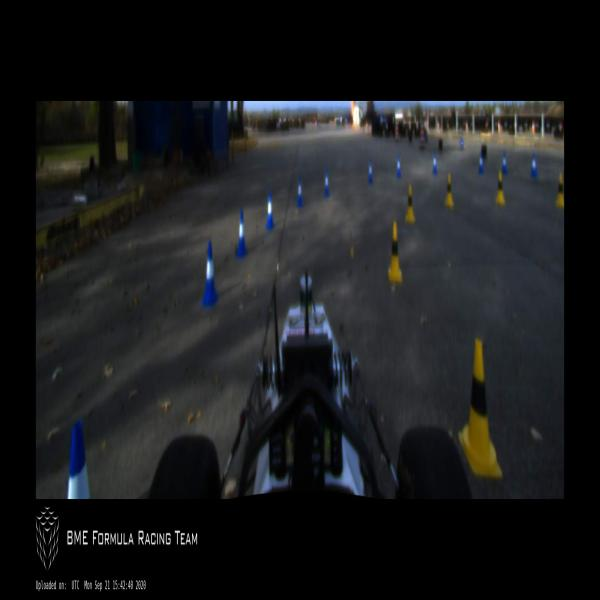blue_cone: (67, 422, 90, 499), (201, 241, 219, 306), (236, 210, 248, 259), (266, 192, 275, 230), (296, 177, 303, 207), (530, 154, 537, 178), (396, 155, 402, 177), (502, 152, 508, 174), (432, 151, 438, 172), (324, 172, 329, 196), (368, 160, 373, 183), (478, 153, 483, 174)
yellow_cone: (458, 339, 502, 477), (387, 222, 402, 284), (405, 183, 415, 225), (444, 172, 454, 209), (554, 173, 564, 208), (495, 170, 504, 204)
